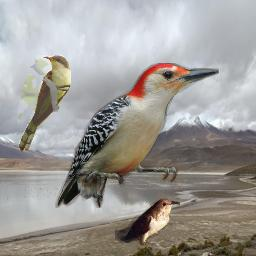Cuckoo: (18, 55, 71, 152), (115, 198, 180, 246)
Woodpecker: (55, 63, 219, 208)
